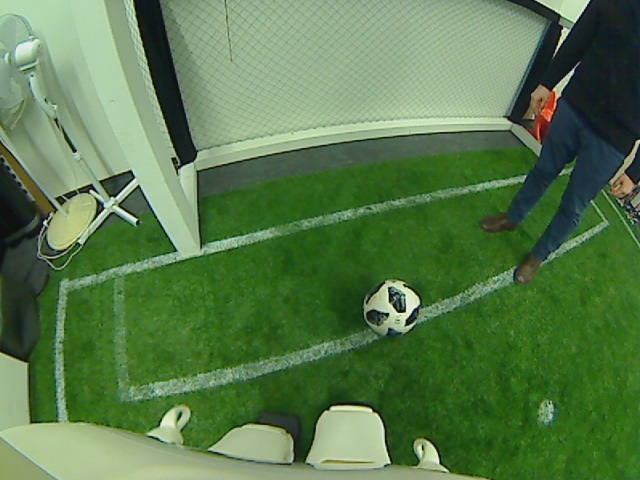ball: (359, 275, 422, 340)
